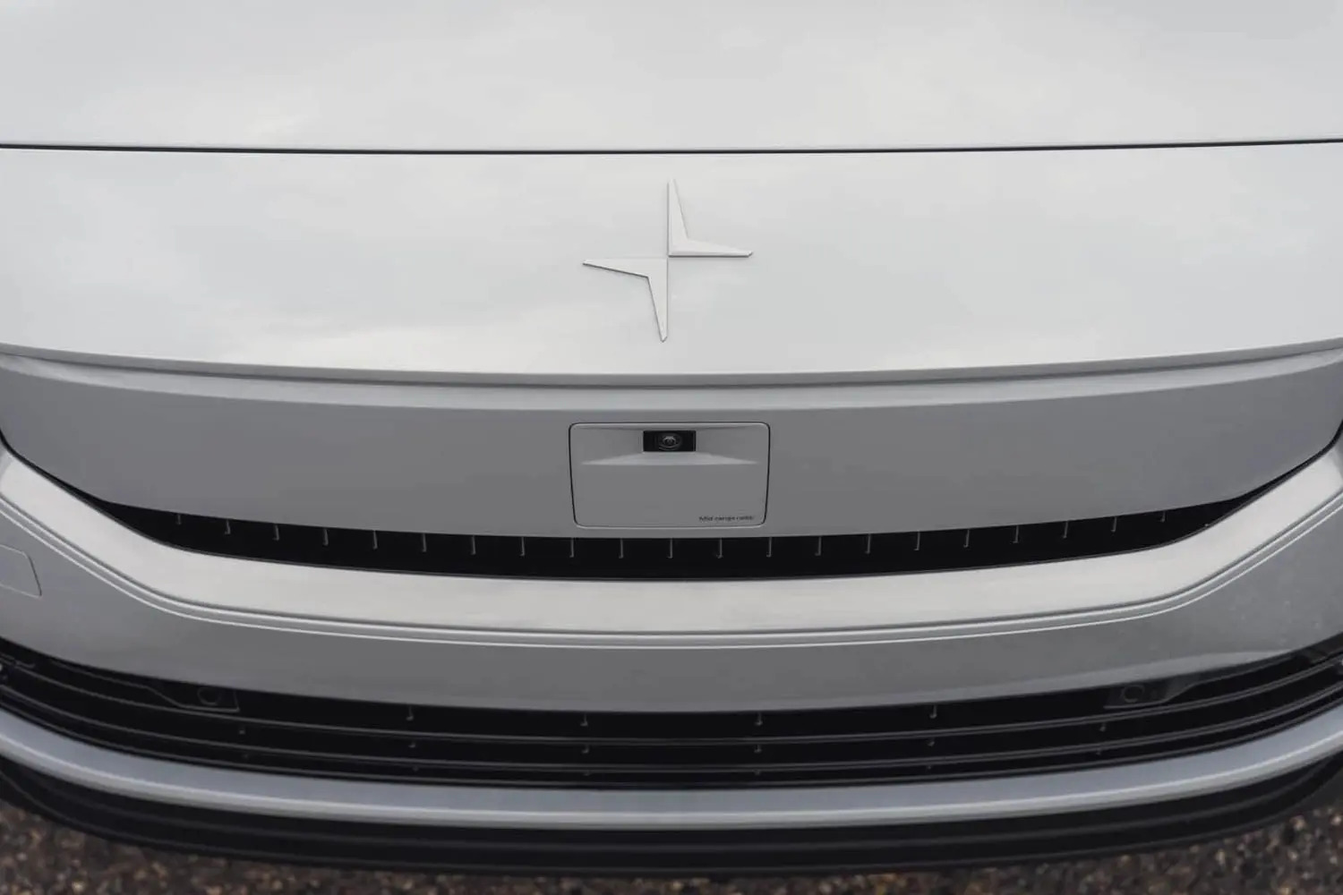Polestar: (584, 179, 752, 341)
